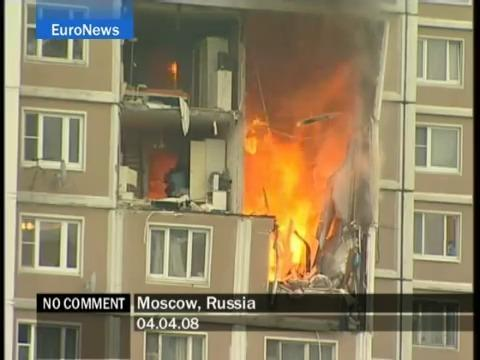fire: (241, 39, 367, 286), (148, 152, 176, 196), (169, 61, 179, 78)
